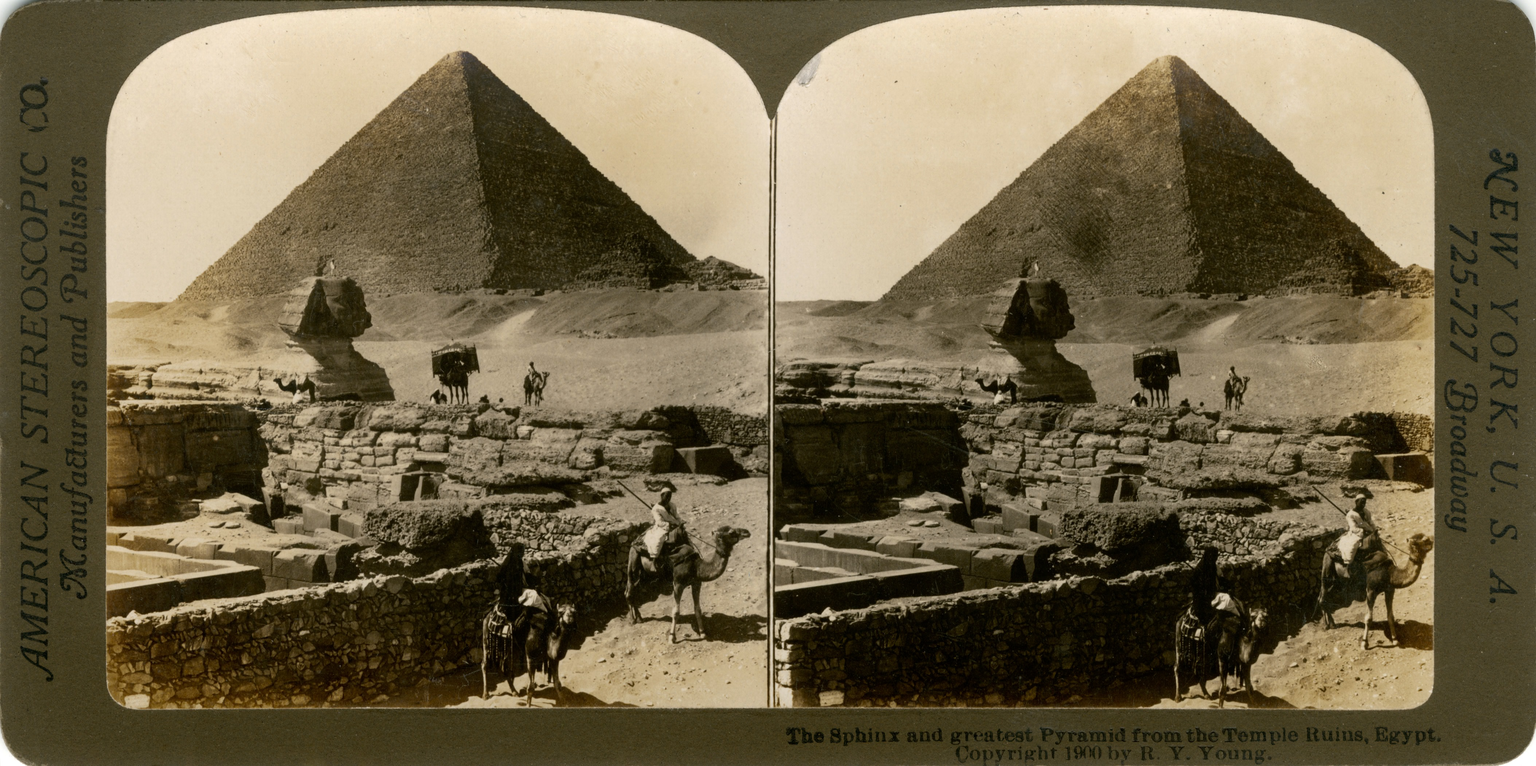half_image: (106, 7, 768, 708), (777, 6, 1434, 711)
